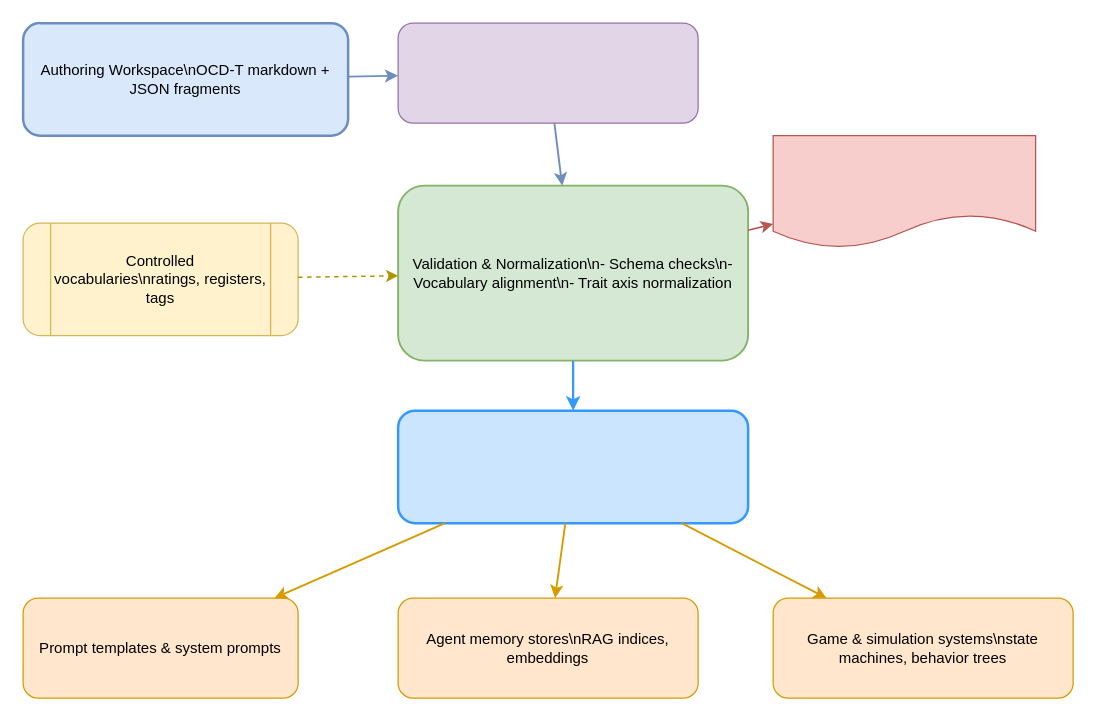
Image size: 1095x720. Some labels were removed from this diagram. The shapes that lost their labels are listed below. From the top down, each one's box as (x1, y1, x2, y2) in pixels, then its label:
(397, 22, 698, 123): Source control & reviews\nbranch policies, lint hooks
(772, 134, 1036, 248): Diagnostics output\nwarnings, lint reports
(396, 409, 749, 524): Normalized CharacterDefinition JSON
